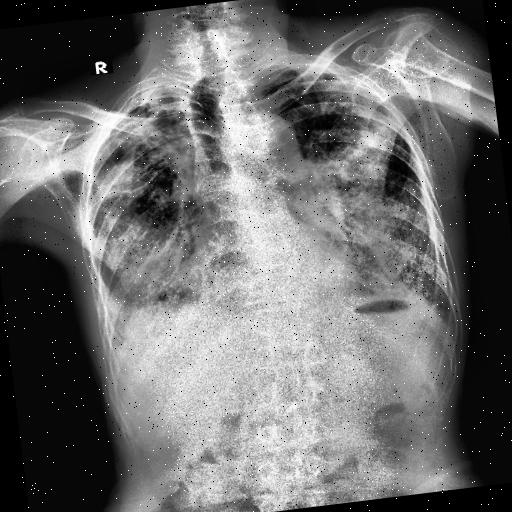0- Aortic enlargement: (226, 113, 304, 184), (230, 110, 300, 172), (236, 112, 304, 174)
10- Pleural effusion: (89, 282, 135, 337), (106, 341, 124, 360)
11- Pleural thickening: (106, 341, 124, 360)
13- Pulmonary fibrosis: (306, 64, 446, 318), (104, 88, 194, 206), (103, 116, 191, 192), (104, 166, 170, 195)
4- Consolidation: (306, 64, 446, 318), (80, 153, 208, 308)
6- Infiltration: (259, 49, 453, 329), (254, 70, 445, 316), (71, 86, 226, 336), (306, 64, 446, 318), (70, 105, 223, 319)
7- Lung Opacity: (80, 153, 208, 308)
